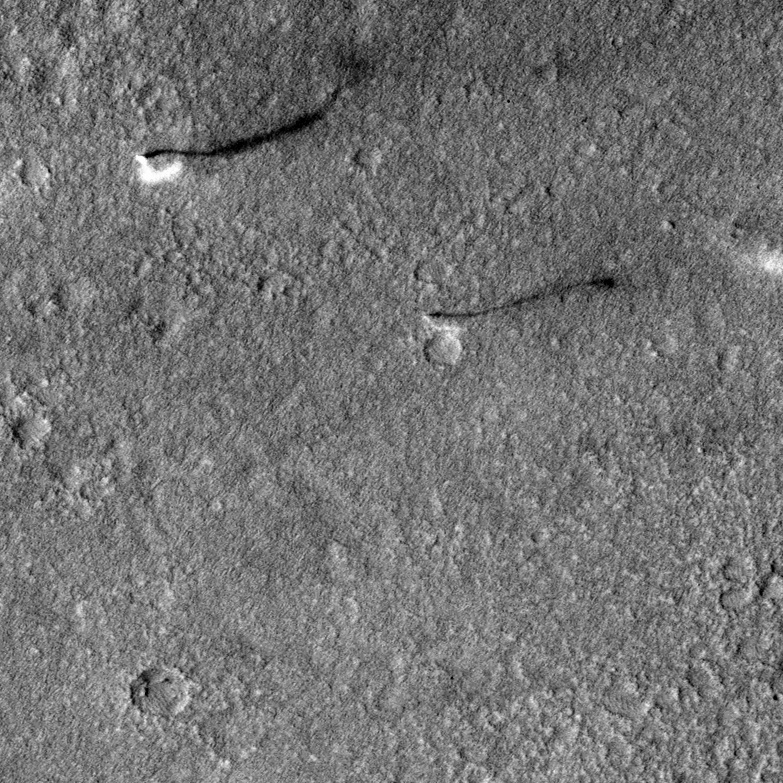dust_devil: (131, 81, 345, 187), (418, 273, 620, 337)
